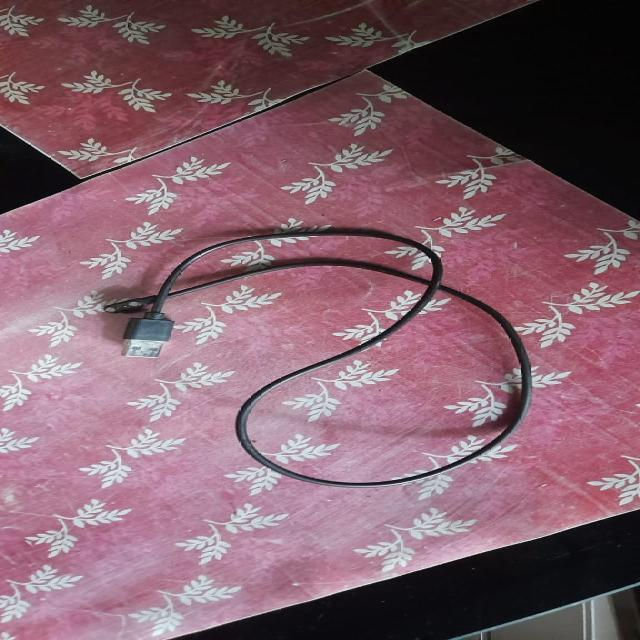Charger - Recyclable: (93, 210, 572, 502)
